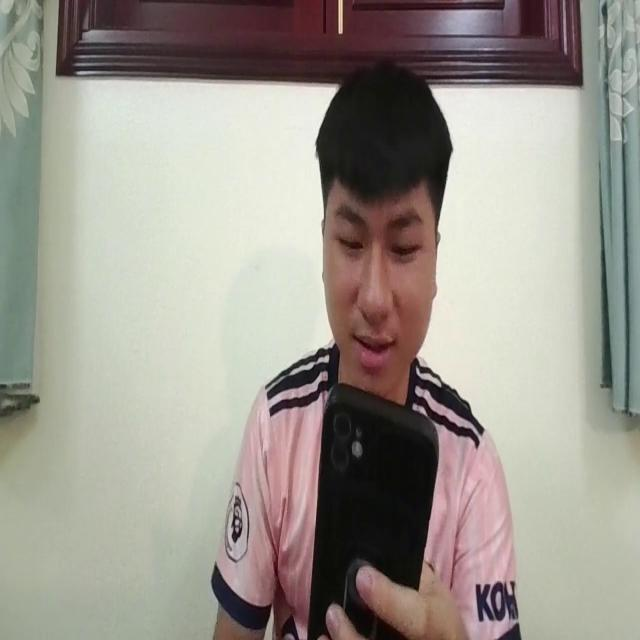phone: (307, 379, 438, 640)
student: (208, 58, 520, 640)
